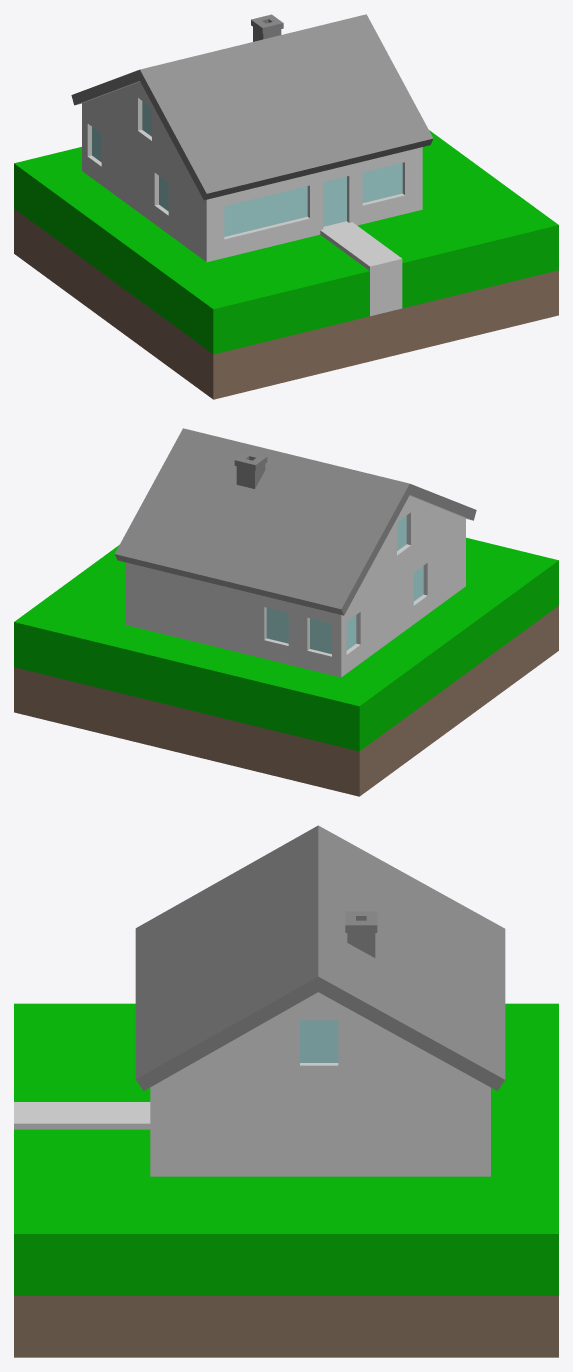
Rendered from CasaPequena1.fbx.
3 renders of one model, top to bottom at view 1: azimuth 30°, elevation 25°; view 2: azimuth 150°, elevation 25°; view 3: azimuth 270°, elevation 25°, orthographic. The views are drawn at different scales.
Parts seen in each view (by area): view 1: CasaPequena1; view 2: CasaPequena1; view 3: CasaPequena1.
Boxes of the visible parts, x1,y1,x2,y2 form: CasaPequena1: (14,14,558,399); CasaPequena1: (14,428,558,796); CasaPequena1: (14,825,558,1357).
Bounding box in the file's own units: 3.82 × 2.55 × 3.82.
